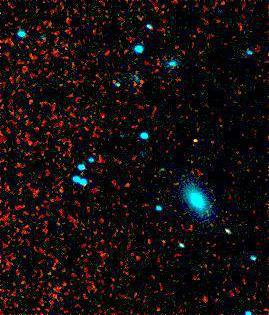star: (182, 126, 212, 156)
